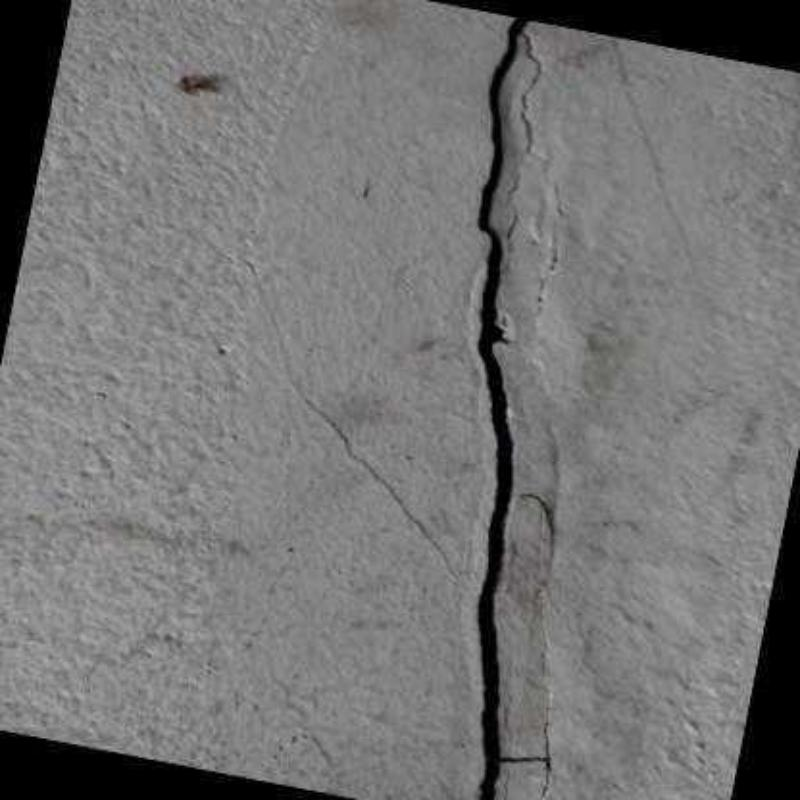crack: (476, 18, 532, 800), (521, 33, 542, 156), (500, 750, 552, 798), (508, 173, 521, 238), (542, 706, 550, 754), (502, 767, 510, 798)
